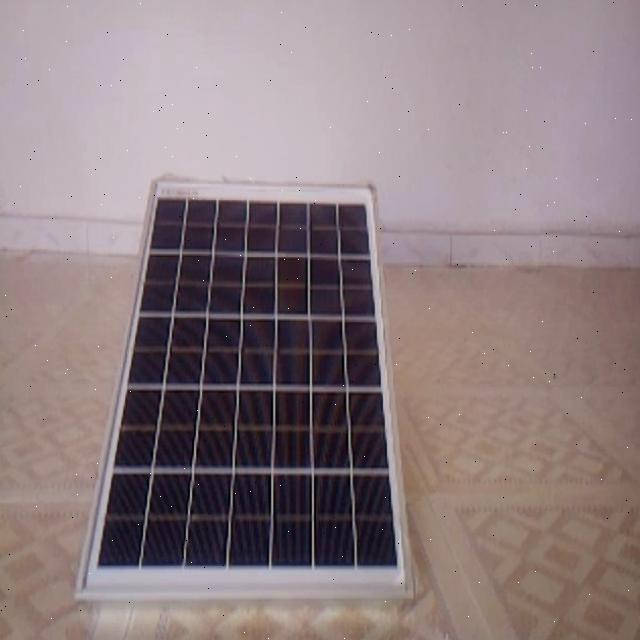Normal Solar Panel: (74, 177, 410, 601)
